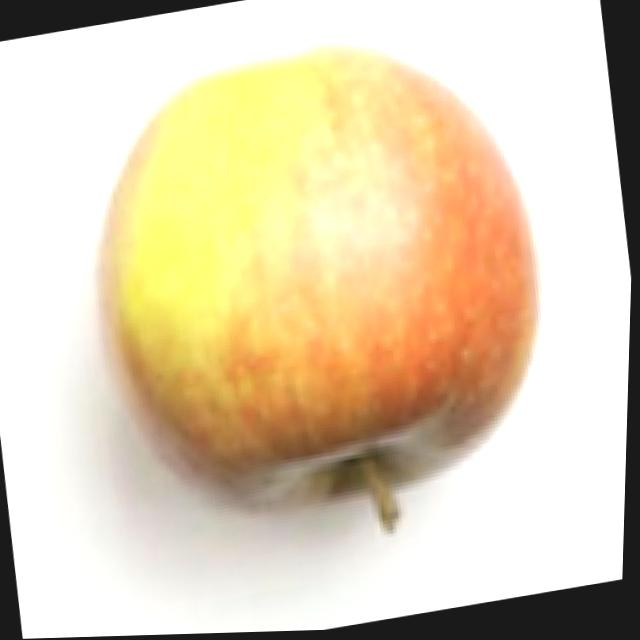Apple: (67, 16, 580, 579)
